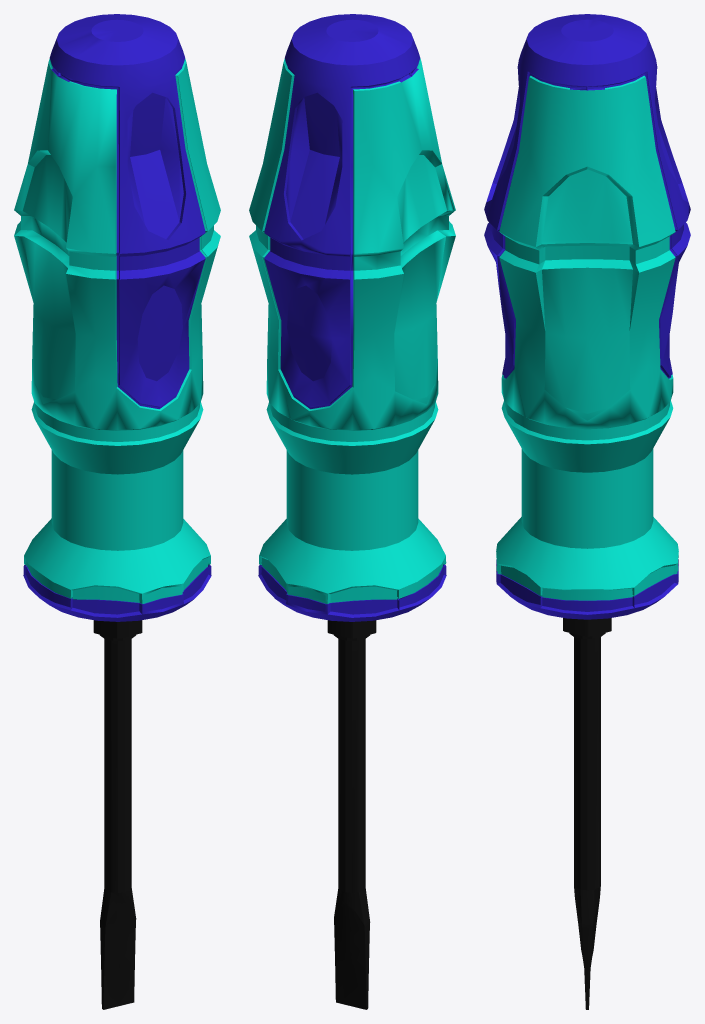
The model's file is Obeng Minus_LP.fbx.
3 renders of one model, left to right at view 1: azimuth 30°, elevation 25°; view 2: azimuth 150°, elevation 25°; view 3: azimuth 270°, elevation 25°, orthographic.
Visible parts, largest first — view 1: Obeng Minus_LP; view 2: Obeng Minus_LP; view 3: Obeng Minus_LP.
Boxes of the visible parts, x1,y1,x2,y2 form: Obeng Minus_LP: (14,14,220,1009); Obeng Minus_LP: (249,14,455,1009); Obeng Minus_LP: (484,14,690,1009).
Bounding box in the file's own units: 5.8 × 34.26 × 6.61.
